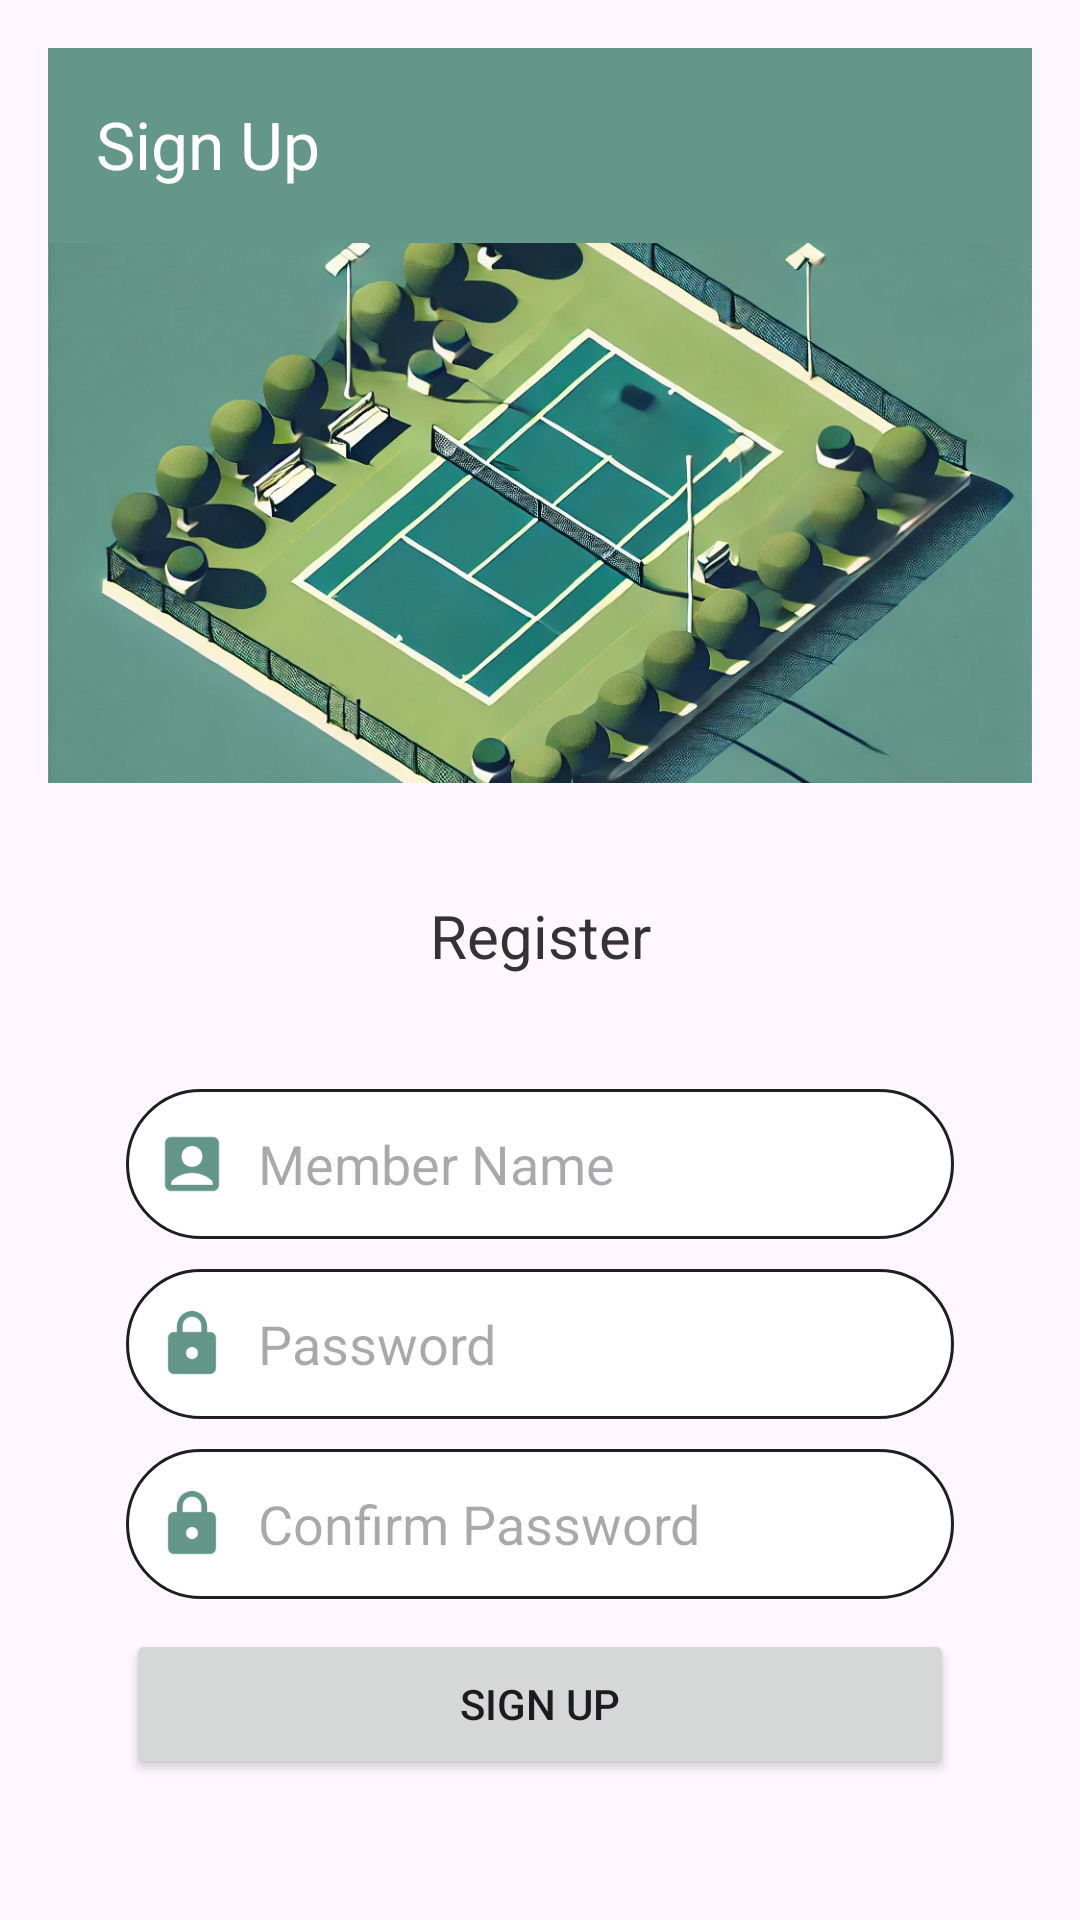

Locate icon controls on the screen. Image size 1080×1920, boxes as BBox(x1, y1, x2, y2).
account box: BBox(164, 1136, 220, 1192)
lock: BBox(168, 1311, 216, 1374), BBox(168, 1491, 216, 1554)
